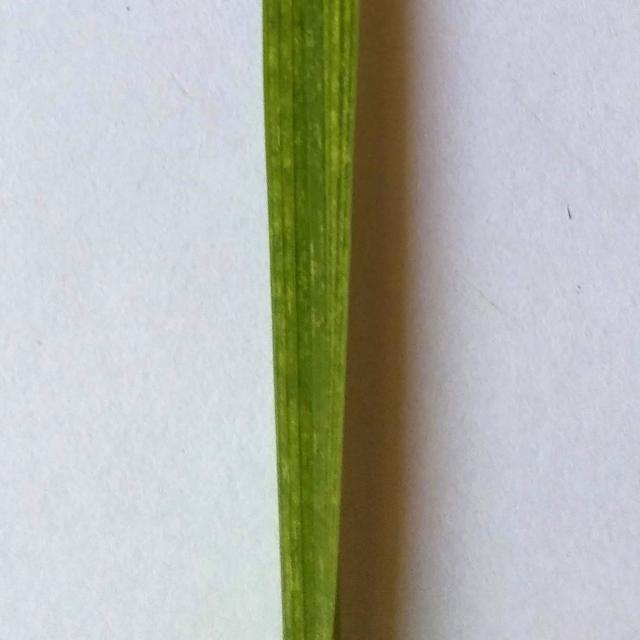Rice_Healthy: (263, 0, 358, 640)
